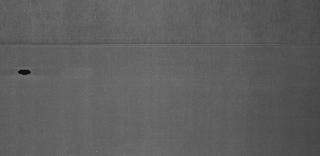punching hole: (17, 68, 33, 76)
welding line: (1, 39, 320, 51)
